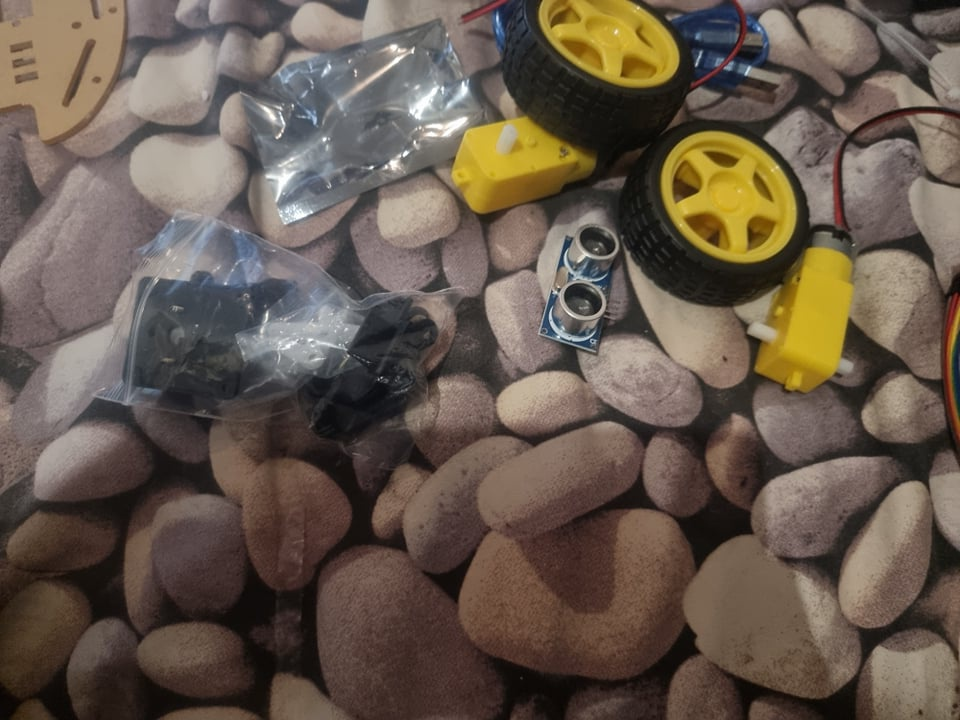SENSOR: (538, 225, 625, 348)
